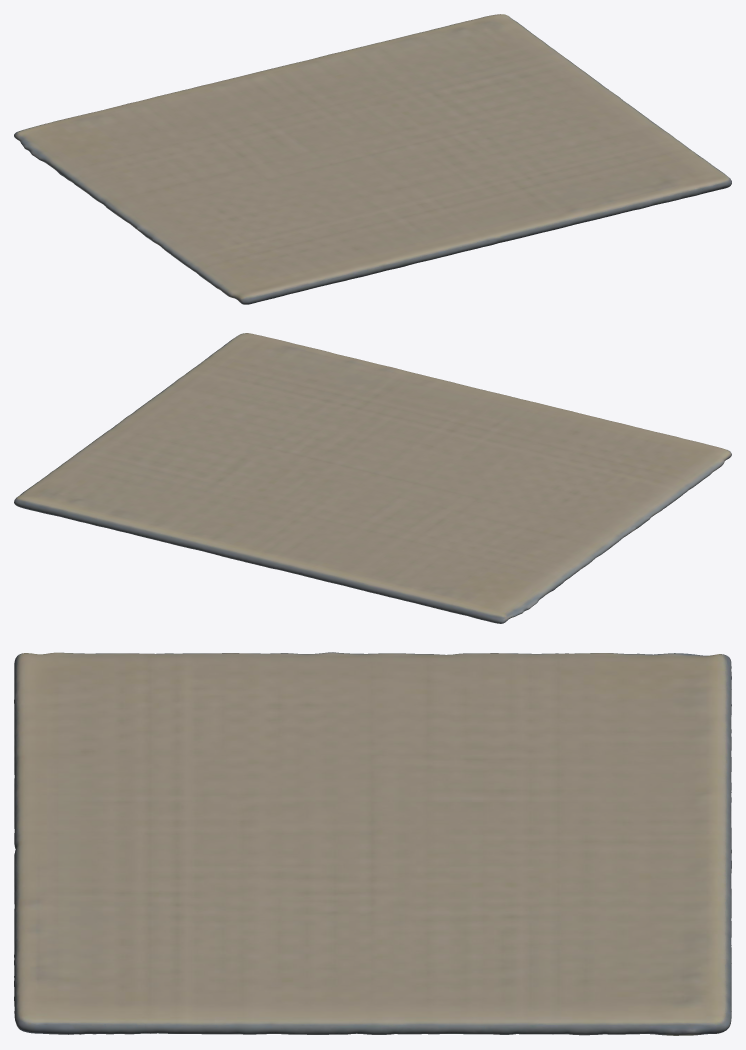
The model's file is adf229cad3c4_a_beige_carpet_with.fbx.
3 renders of one model, top to bottom at view 1: azimuth 30°, elevation 25°; view 2: azimuth 150°, elevation 25°; view 3: azimuth 270°, elevation 25°, orthographic. The views are drawn at different scales.
Parts seen in each view (by area): view 1: high_poly; view 2: high_poly; view 3: high_poly.
Boxes of the visible parts, left/top/right/bottom form: high_poly: left=14, top=14, right=731, bottom=304; high_poly: left=14, top=333, right=731, bottom=623; high_poly: left=14, top=652, right=731, bottom=1035.
Bounding box in the file's own units: 100 × 2.76 × 80.65.
